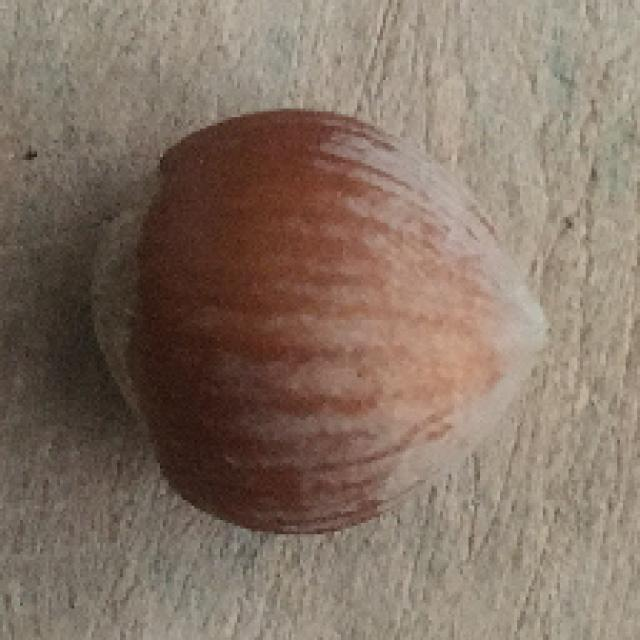qualityHazelnut: (90, 112, 550, 531)
